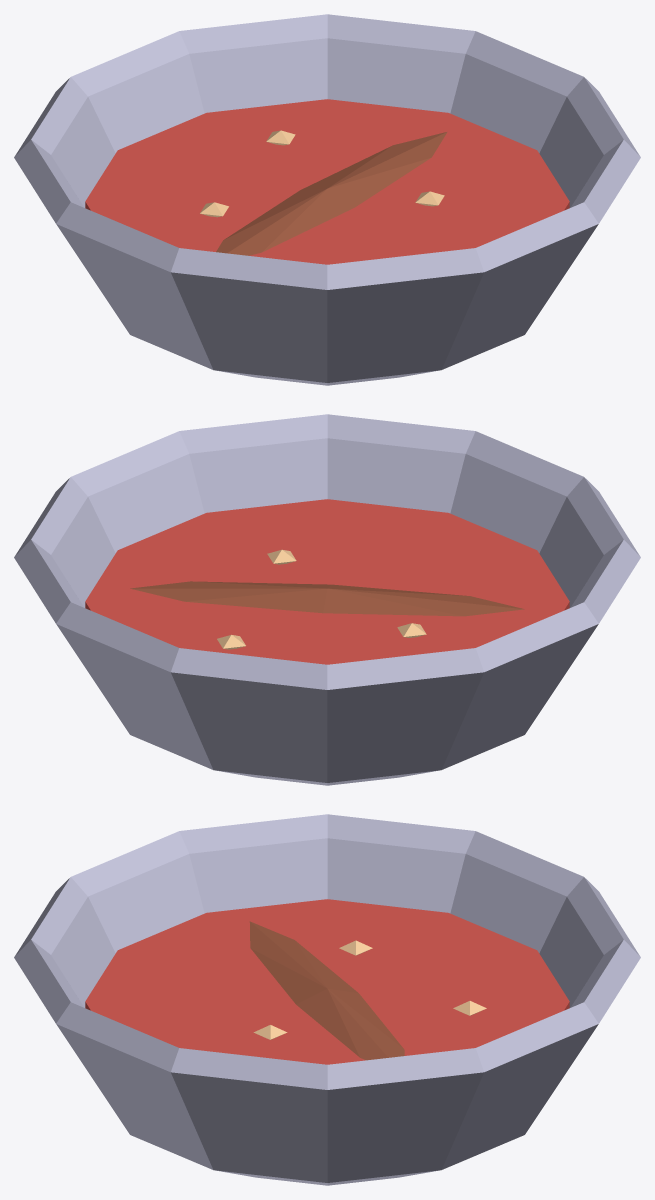
The model's file is sambal-mixed.glb.
3 views of the same model, one above another, from view 1: azimuth 30°, elevation 25°; view 2: azimuth 150°, elevation 25°; view 3: azimuth 270°, elevation 25° (orthographic).
Visible parts, largest first — view 1: sambal-mixed; view 2: sambal-mixed; view 3: sambal-mixed.
Part boxes in pixels (x1,y1,x2,y2): sambal-mixed: [14, 14, 640, 385]; sambal-mixed: [14, 414, 640, 785]; sambal-mixed: [14, 814, 640, 1185].
Bounding box in the file's own units: 0.22 × 0.072 × 0.22.
1 material, 1 textured.
